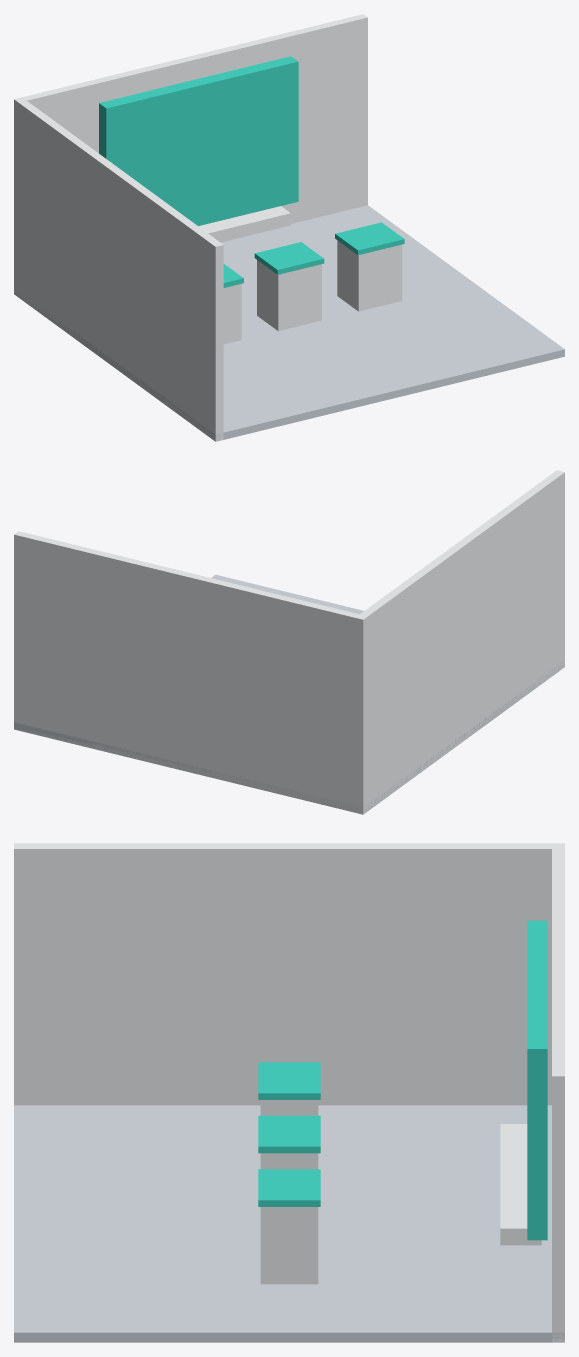
The picture shows the model from 3 angles, top to bottom: view 1: azimuth 30°, elevation 25°; view 2: azimuth 150°, elevation 25°; view 3: azimuth 270°, elevation 25°; orthographic projection. The views are drawn at different scales.
Parts seen in each view (by area): view 1: Exhibition Booth Concept; view 2: Exhibition Booth Concept; view 3: Exhibition Booth Concept.
Boxes of the visible parts, x1,y1,x2,y2 form: Exhibition Booth Concept: (14,14,564,441); Exhibition Booth Concept: (14,470,564,814); Exhibition Booth Concept: (14,843,564,1342).
Size of the model in its own units: 6 by 3.2 by 6.
